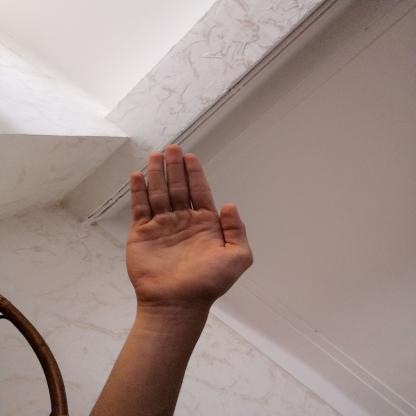SEEN: (114, 136, 262, 319)
